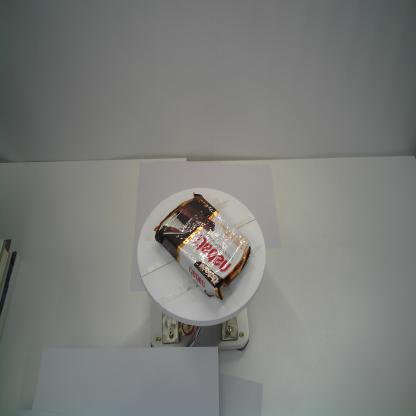Dessert: (154, 190, 252, 304)
